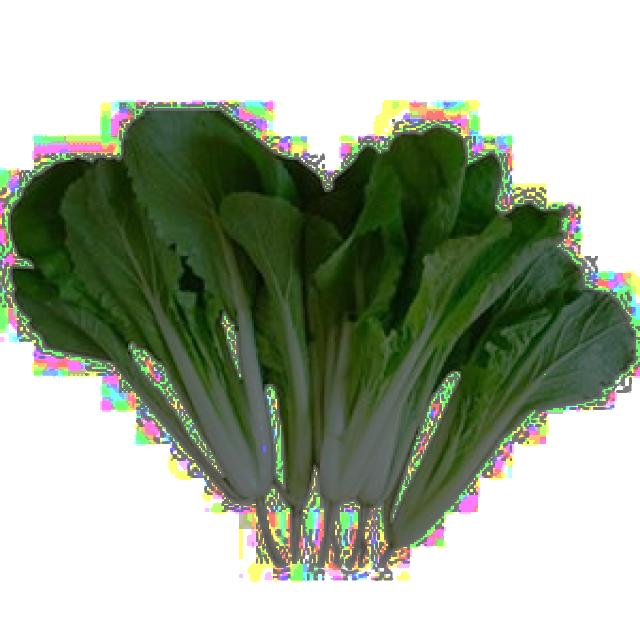chinese_cabbage: (32, 86, 622, 567)
